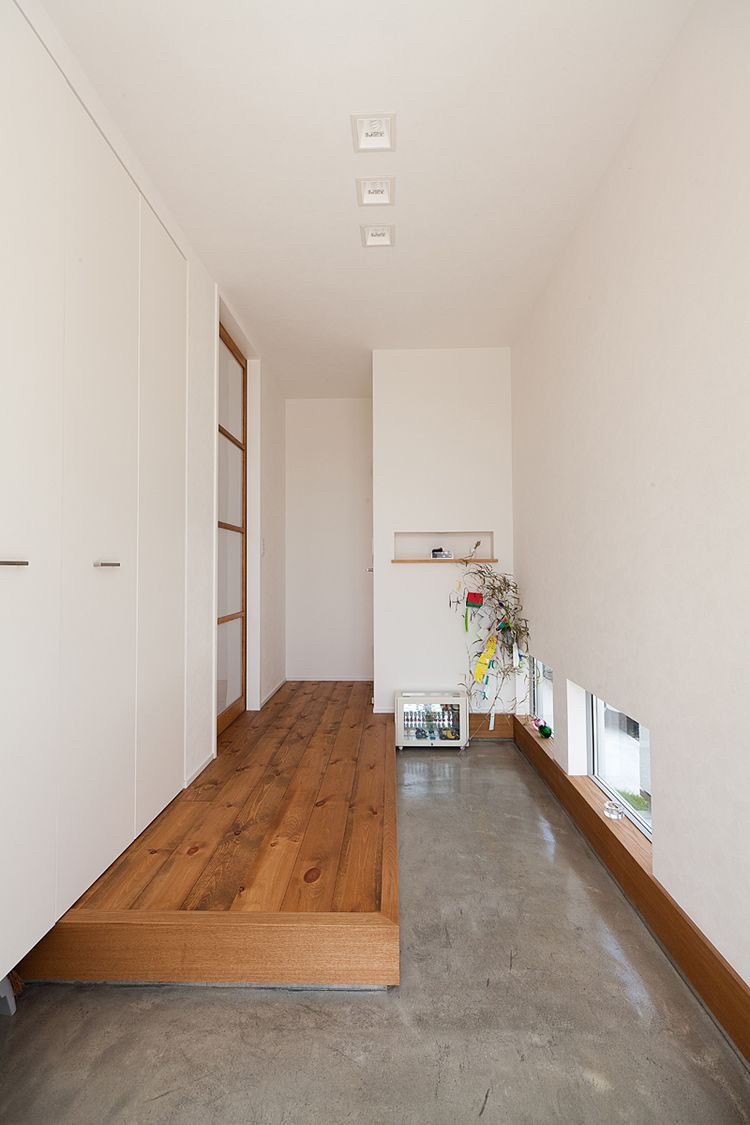floor: (0, 740, 749, 1124)
